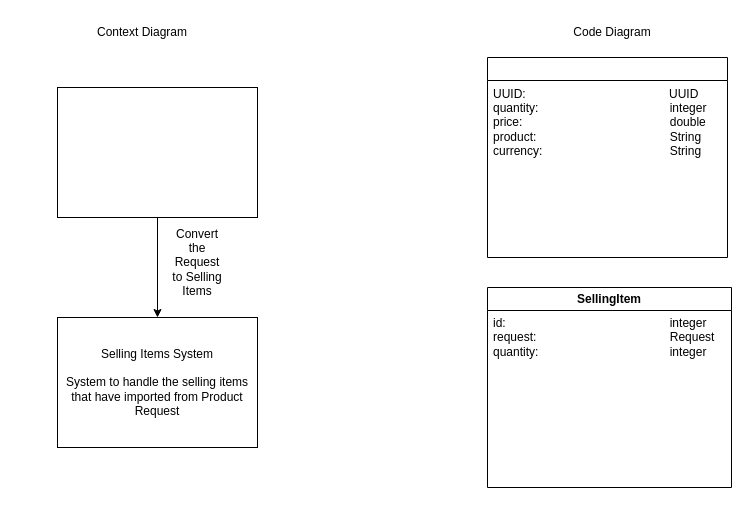
The diagram is 754 pixels wide and 505 high, and some of its shapes have lost their labels. The shapes that lost their labels are listed below. From the top down, each one's box as (x1, y1, x2, y2) in pixels, then its label:
(56, 86, 258, 218): Product Request System System to handle the product request
(486, 56, 728, 258): Request
